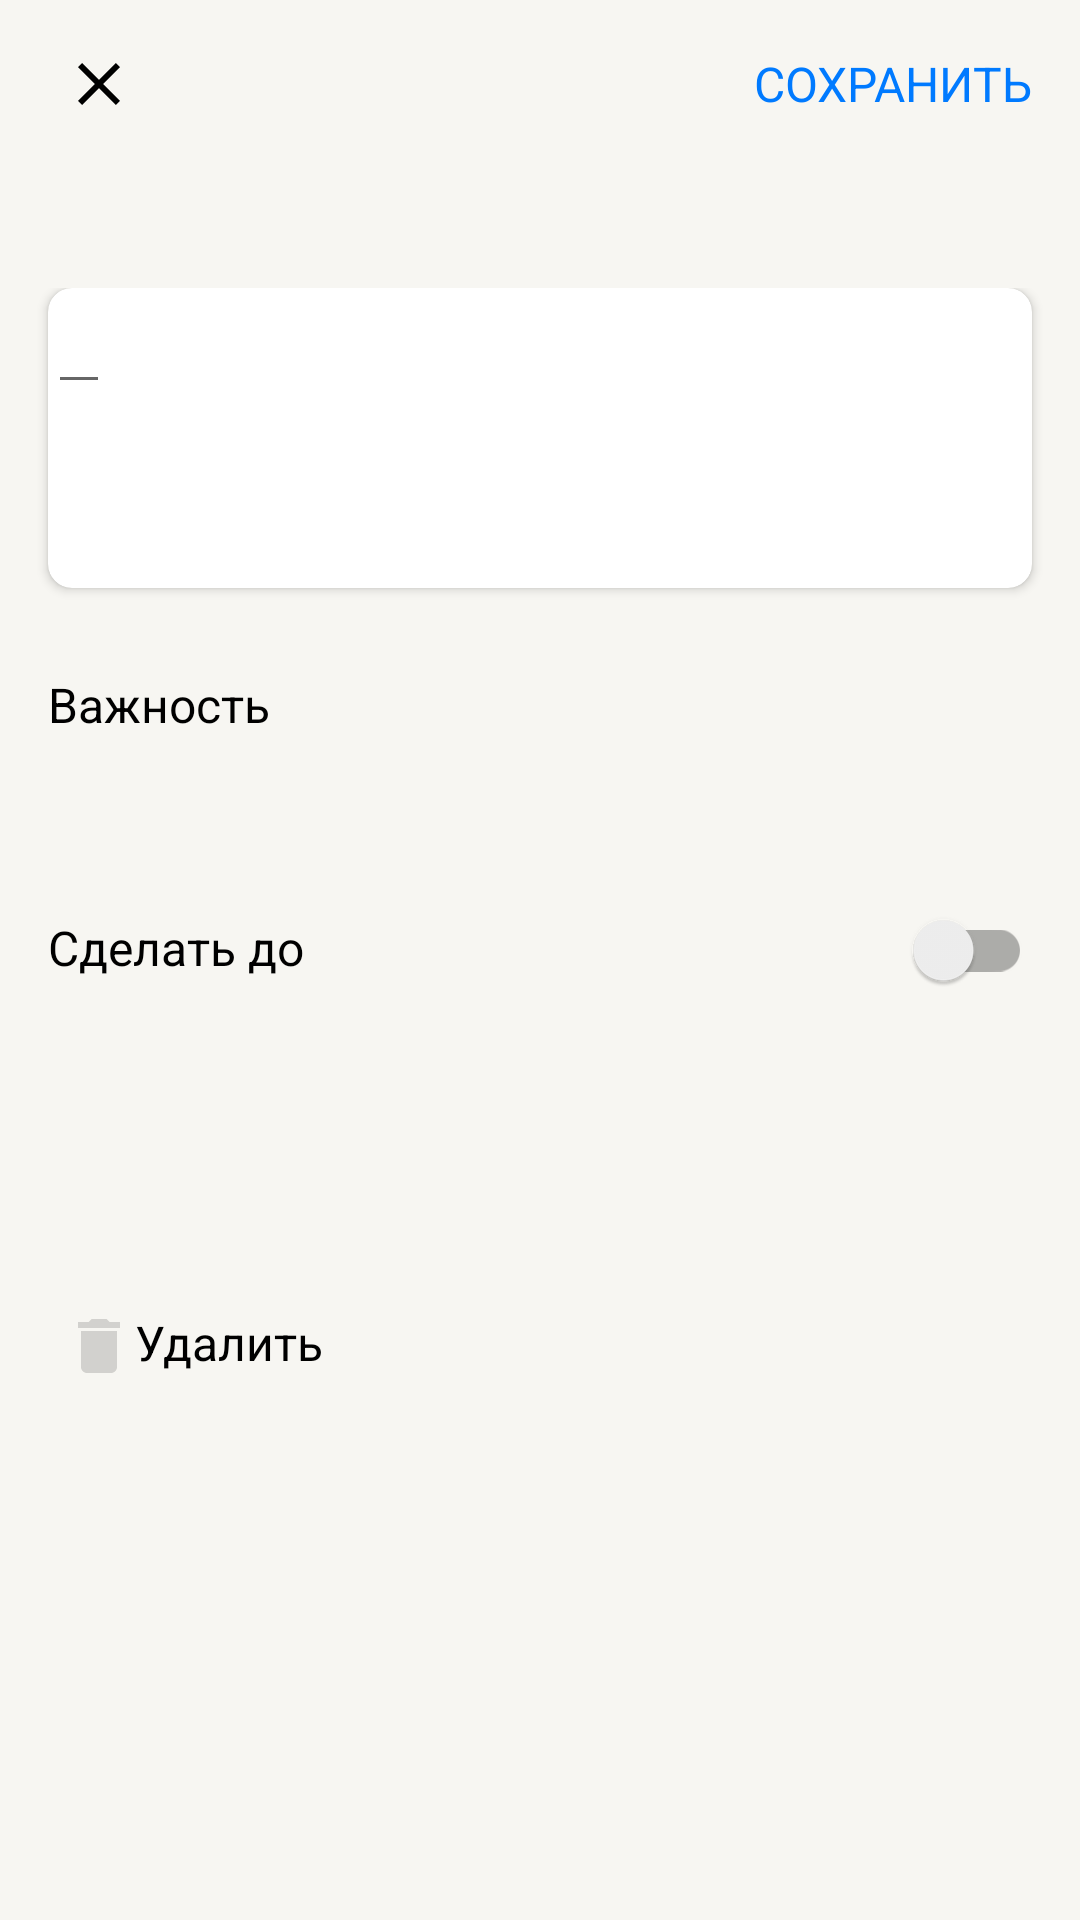

Icons on this 1080px×1920px Android screen, each with the point to tap as (x=x, y=y):
close: (x=99, y=84)
